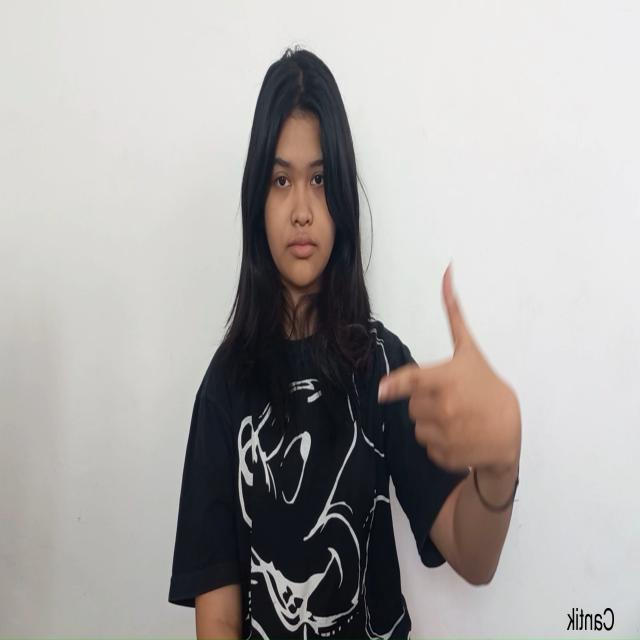Cantik -BISINDO-: (377, 258, 523, 517)
